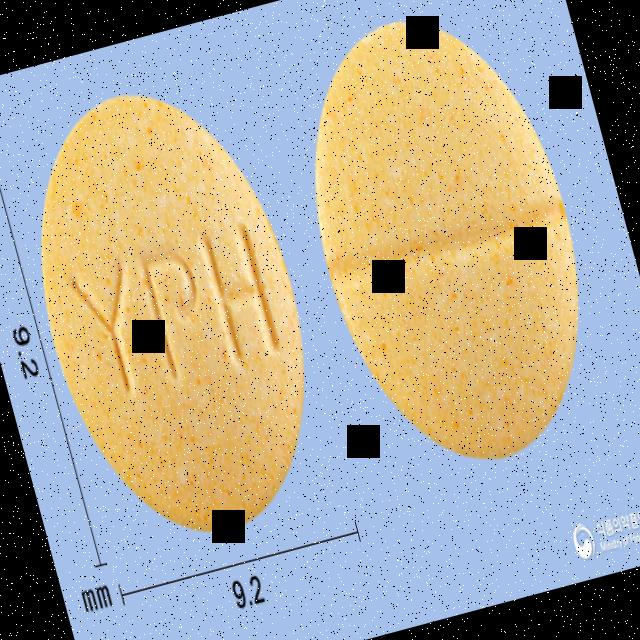Doxycycline Tab- Youngpoong: (0, 59, 350, 563)
